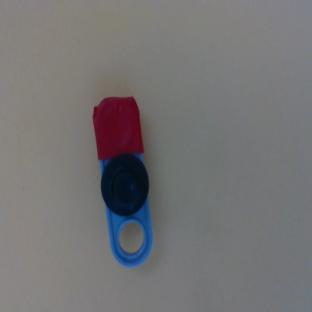part_1_good: (89, 93, 159, 268)
